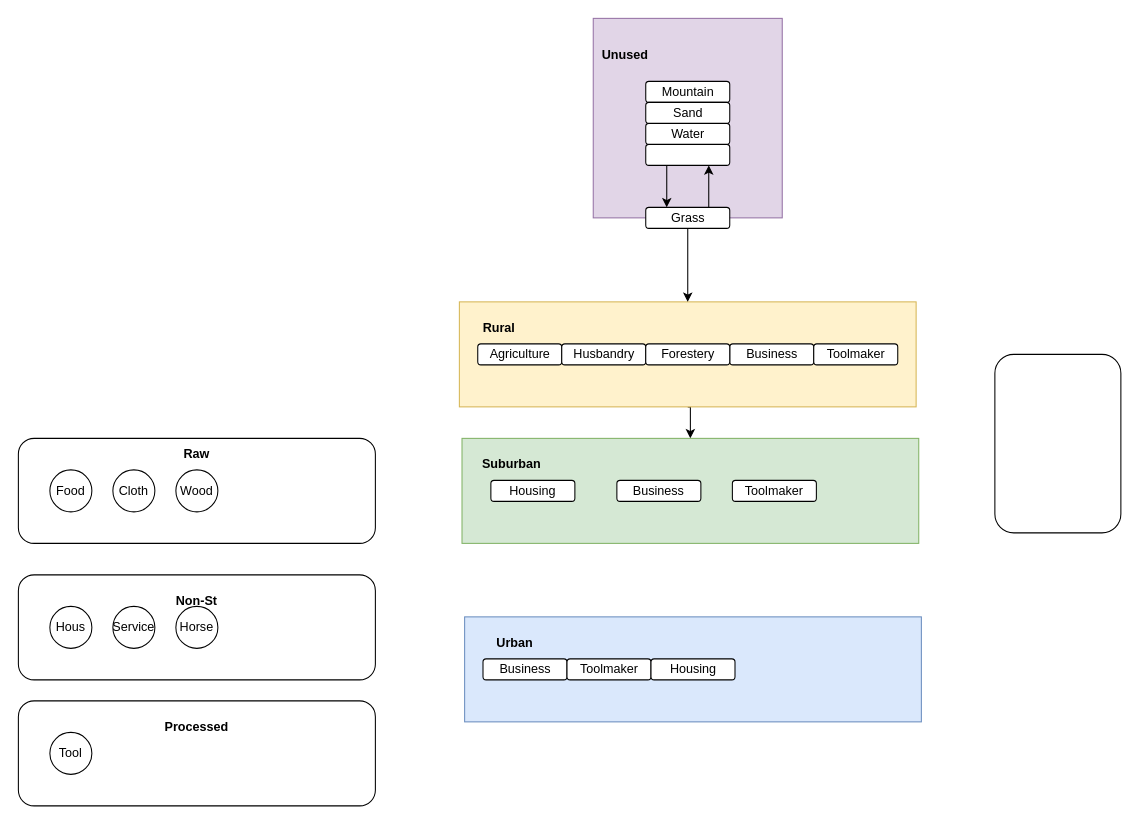
This 1139x824 diagram has some shape labels left out. The shapes that lost their labels are listed below. From the top down, each one's box as (x1, y1, x2, y2) in pixels, then its label:
(645, 143, 730, 165): Forest
(994, 353, 1121, 533): Agent Pop : Money : Energy : Needs : Lands : Cohesion
